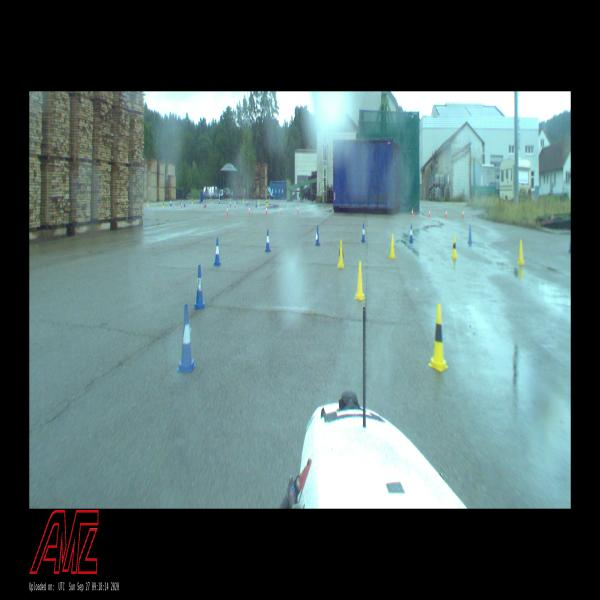blue_cone: (177, 305, 196, 371), (193, 265, 206, 309), (214, 238, 221, 266), (265, 229, 271, 252), (361, 223, 366, 243), (315, 225, 320, 245), (409, 224, 413, 243), (468, 226, 472, 244), (568, 236, 571, 251), (170, 200, 172, 206), (205, 200, 206, 208), (184, 200, 185, 207), (230, 200, 231, 207), (246, 200, 247, 206), (256, 201, 257, 207)
orange_cone: (428, 209, 431, 217), (226, 205, 228, 216), (445, 209, 447, 218), (462, 209, 464, 218), (280, 206, 282, 215), (248, 206, 250, 215), (266, 206, 268, 215), (297, 204, 299, 212), (412, 208, 414, 216), (180, 201, 182, 208), (234, 201, 236, 207), (203, 201, 205, 207)
yellow_cone: (428, 304, 448, 372), (354, 261, 365, 300), (338, 240, 344, 268), (389, 234, 396, 258), (451, 236, 458, 258), (518, 240, 524, 265), (258, 198, 260, 204), (211, 198, 213, 204), (265, 200, 267, 206), (148, 201, 150, 206), (163, 200, 164, 208), (192, 198, 193, 204), (155, 200, 156, 206), (267, 200, 268, 206), (147, 200, 148, 205), (243, 199, 244, 204)
